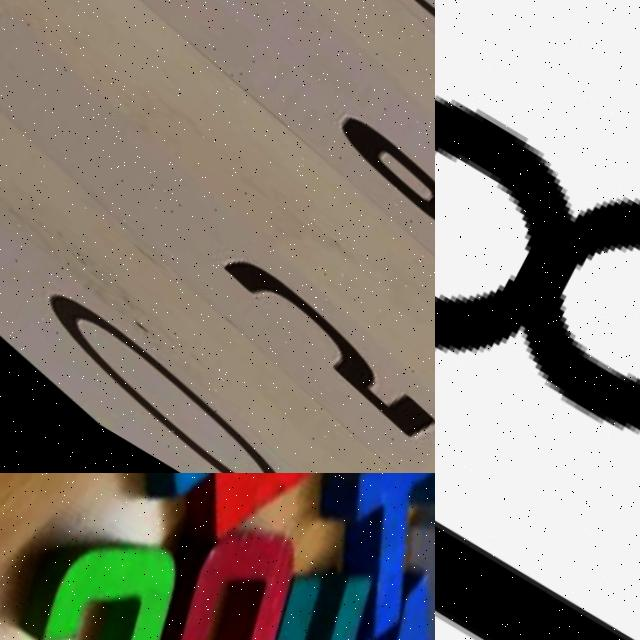0: (0, 260, 342, 473), (204, 0, 435, 101)
5: (172, 227, 435, 460)
8: (435, 12, 640, 473), (286, 86, 435, 314)
E: (79, 473, 434, 597)
J: (0, 473, 307, 538)
K: (153, 523, 426, 640)
L: (435, 473, 640, 640)
N: (246, 547, 435, 640)
U: (51, 480, 352, 640)
